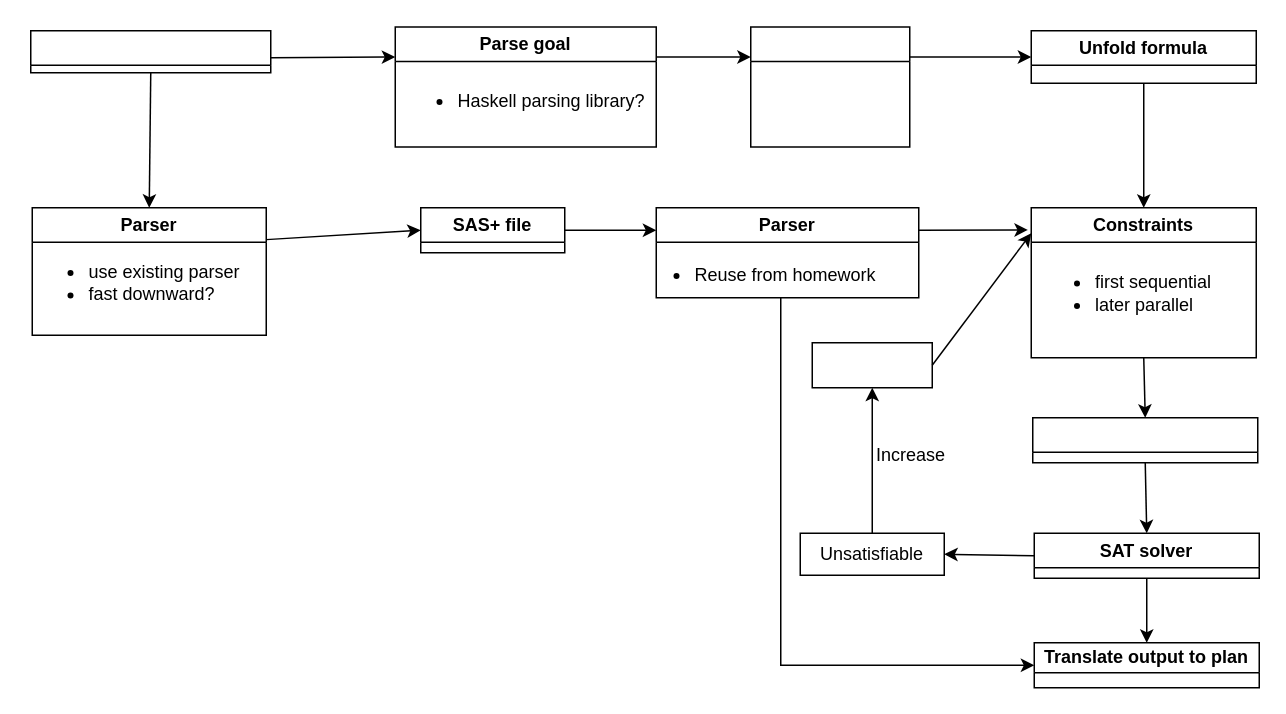
Some shapes in this 1286 by 714 pixel diagram are drawn without their labels. Each missing label, with the centre of its shape:
Input: Pddl: the point at 150,51
Length: the point at 871,364
LTL-formula: the point at 829,86
Parse input SAT solver: the point at 1144,439
